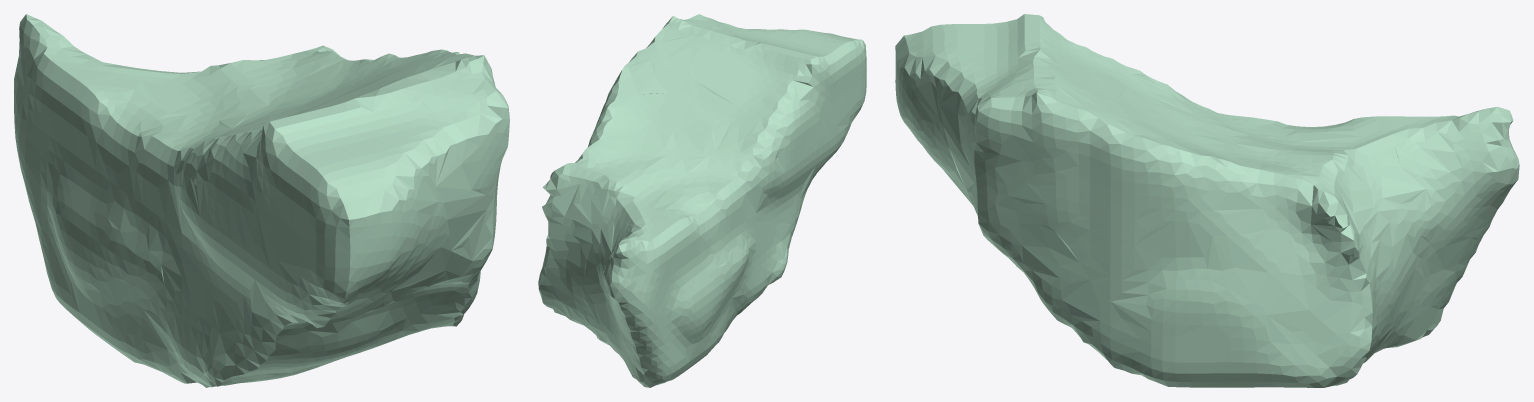
The model's file is Model_112_RH__Parietal_area_PG__medial_part_(PGM).obj.
3 renders of one model, left to right at view 1: azimuth 30°, elevation 25°; view 2: azimuth 150°, elevation 25°; view 3: azimuth 270°, elevation 25°, orthographic. The views are drawn at different scales.
Size of the model in its own units: 2.01 by 2.6 by 4.58.
